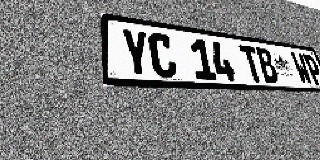1: (188, 38, 217, 80)
4: (208, 40, 237, 81)
B: (254, 47, 280, 83)
C: (147, 32, 178, 78)
P: (302, 54, 320, 85)
T: (238, 45, 265, 82)
W: (290, 52, 314, 85)
Y: (120, 28, 152, 77)
